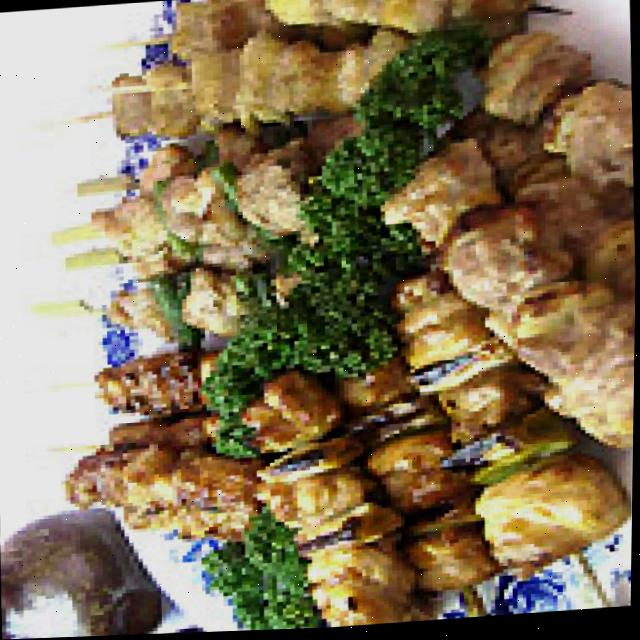烧串烤肉: (40, 0, 640, 639)
